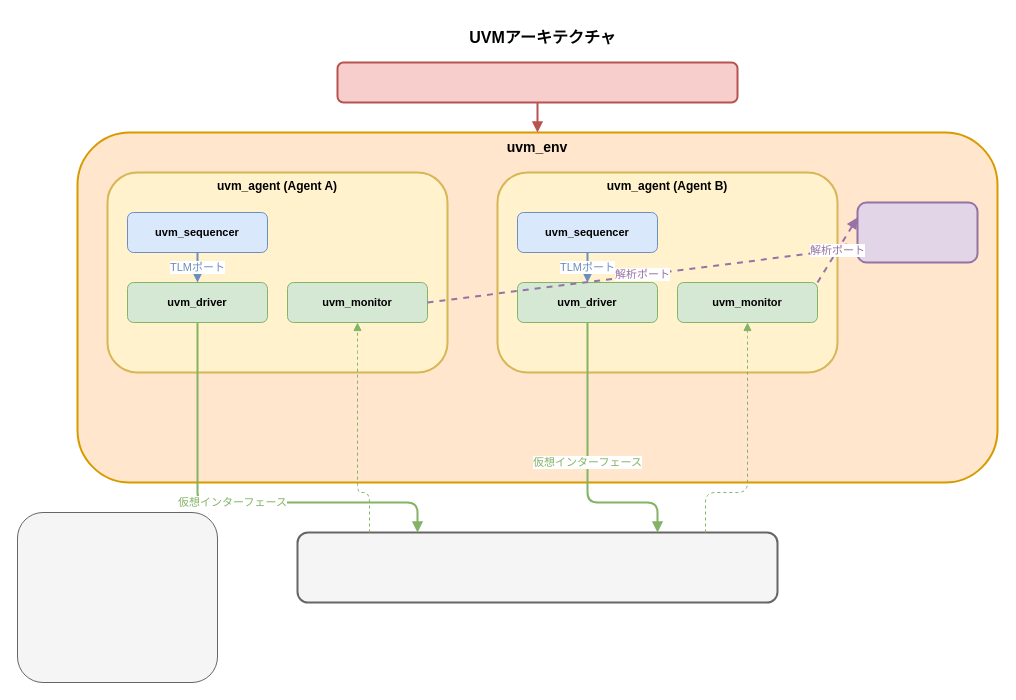
The diagram is 1016 pixels wide and 700 high, and some of its shapes have lost their labels. The centre of each missing label's shape, as x and y in pixels:
"DUT (Design Under Test)" goes at (x=537, y=567).
"uvm_scoreboard" goes at (x=917, y=232).
"uvm_test" goes at (x=537, y=82).
"UVMフェーズ 1. build_phase コンポーネント構築 2. connect_phase ポート接続 3. run_phase テスト実行" goes at (x=117, y=597).
